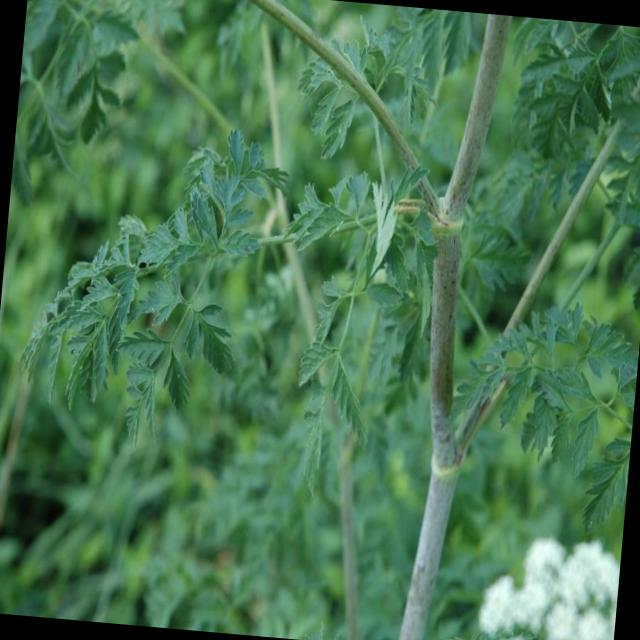Poisonous-Hemlock: (6, 0, 640, 508)
